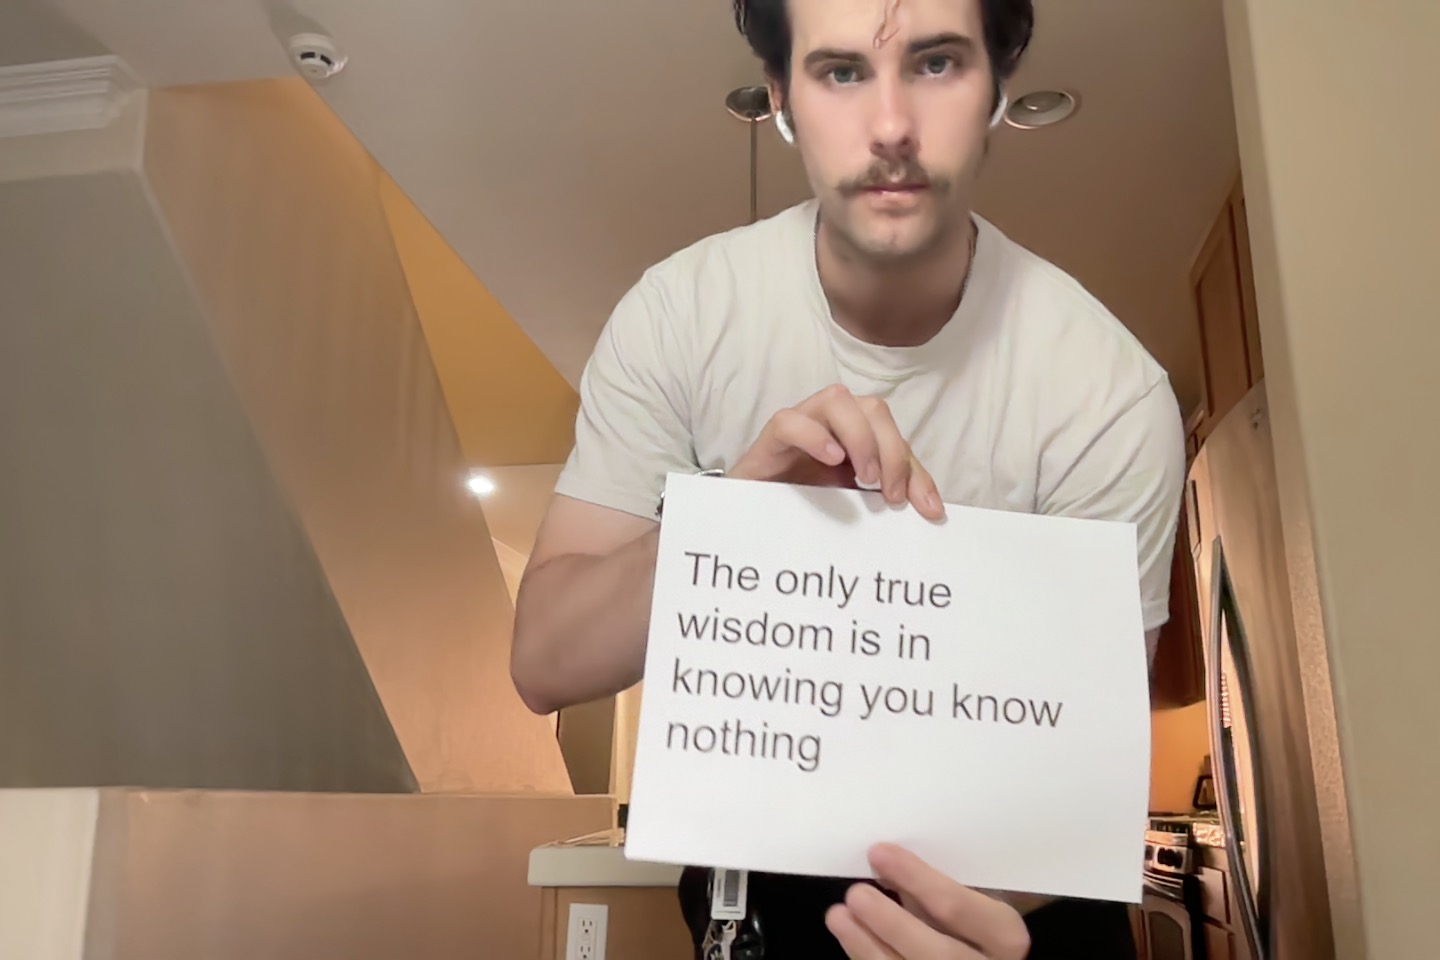phrase: (660, 546, 1071, 778)
